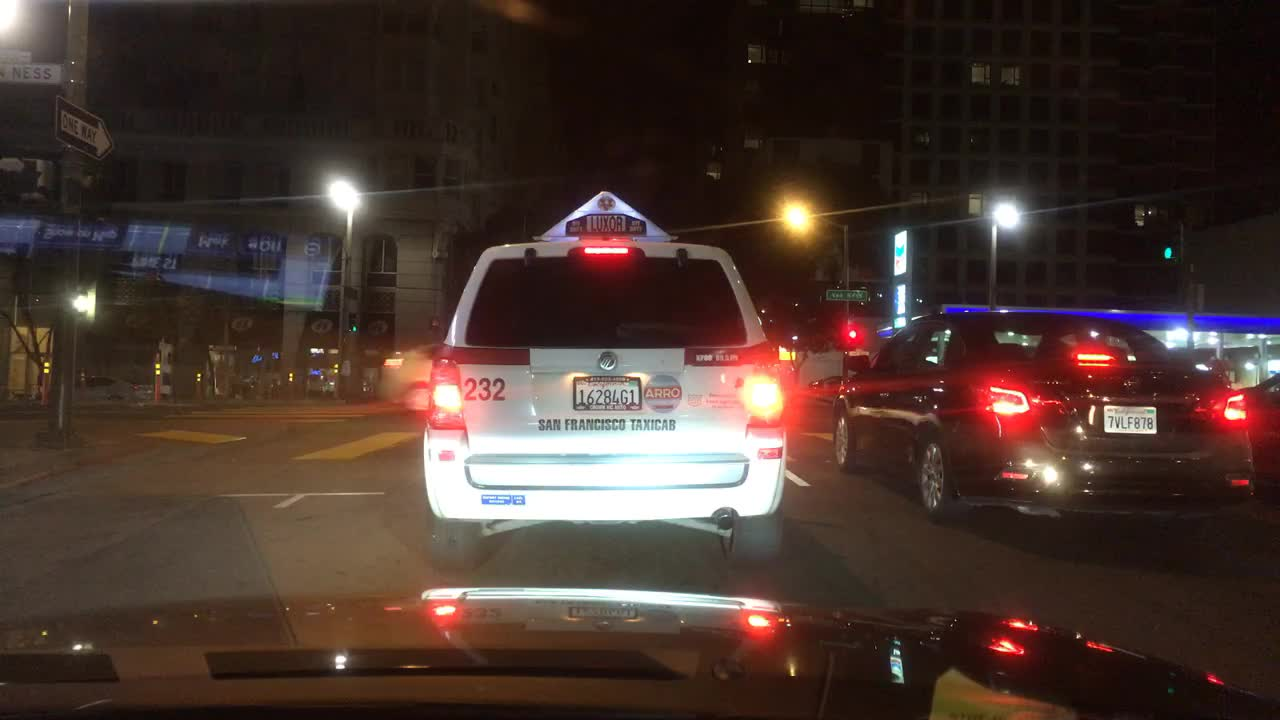car: (422, 191, 786, 560), (830, 304, 1254, 542), (374, 339, 445, 410), (791, 374, 867, 437), (1242, 374, 1279, 498), (72, 374, 130, 401)
traffic light: (1161, 219, 1183, 266), (840, 324, 860, 344), (346, 309, 357, 334)
traffic sign: (55, 98, 114, 165), (0, 59, 64, 84), (822, 287, 867, 302), (339, 282, 357, 300)
